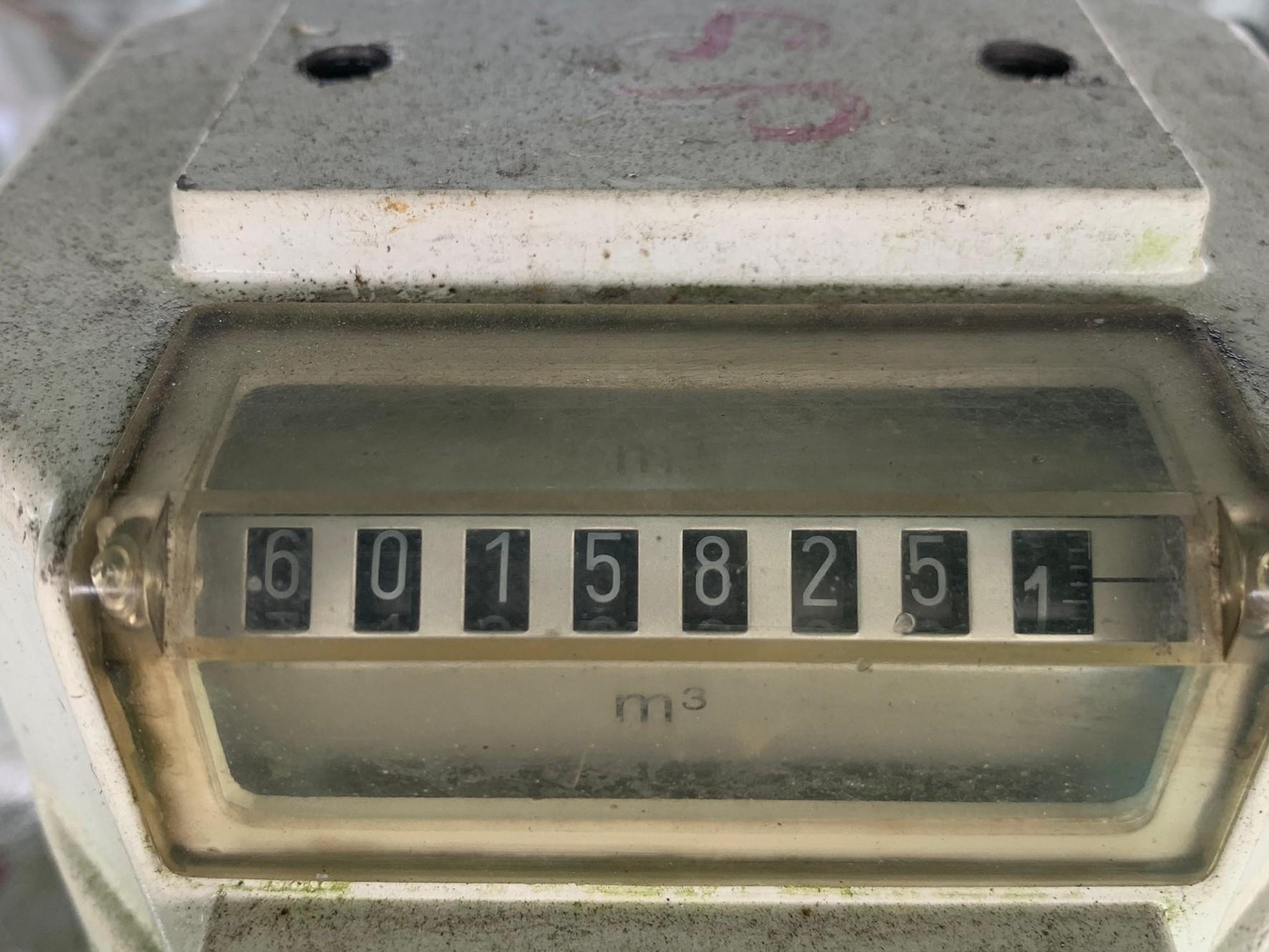analog_dial: (195, 511, 1187, 641)
